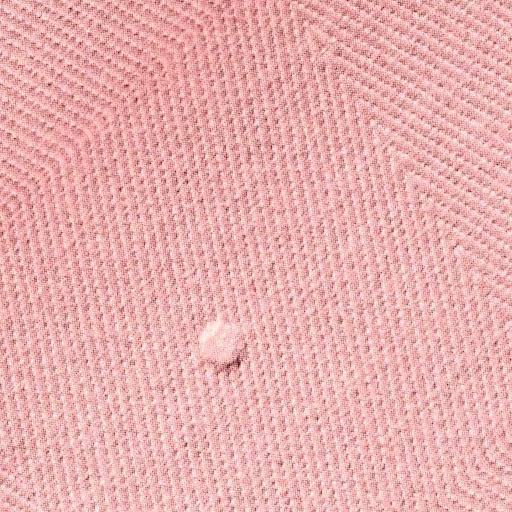knot: (193, 316, 251, 376)
